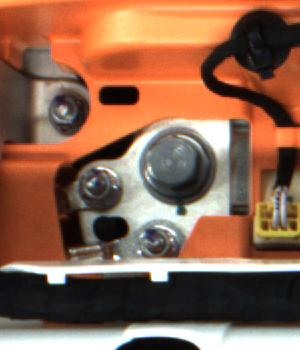nut_b: (139, 128, 217, 206)
screw_s: (132, 226, 180, 262), (41, 94, 84, 133), (78, 165, 116, 209)
